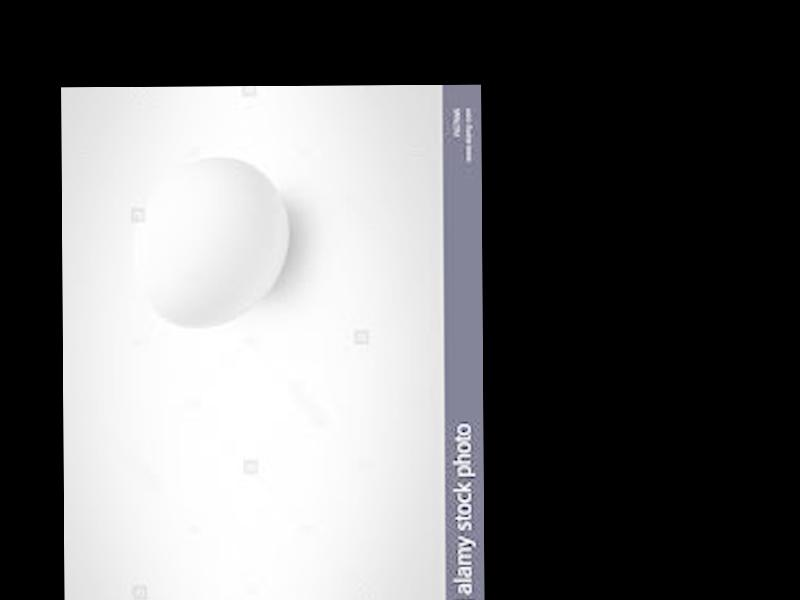Eggs: (135, 154, 290, 326)
